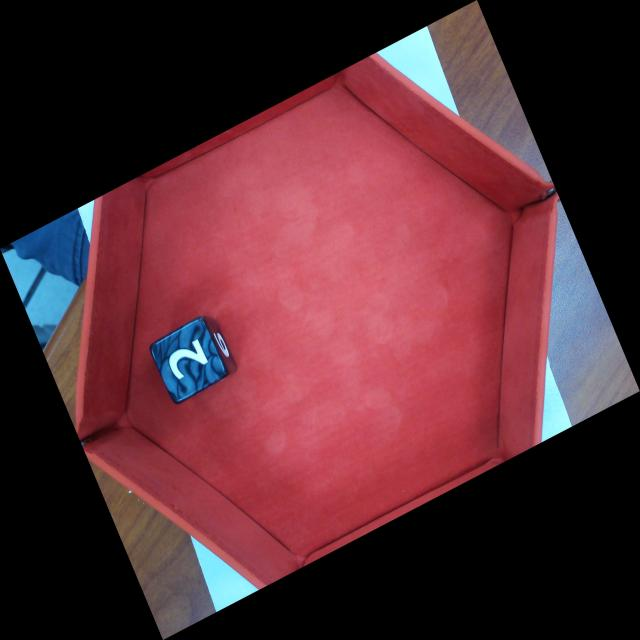dice: (148, 312, 227, 408)
